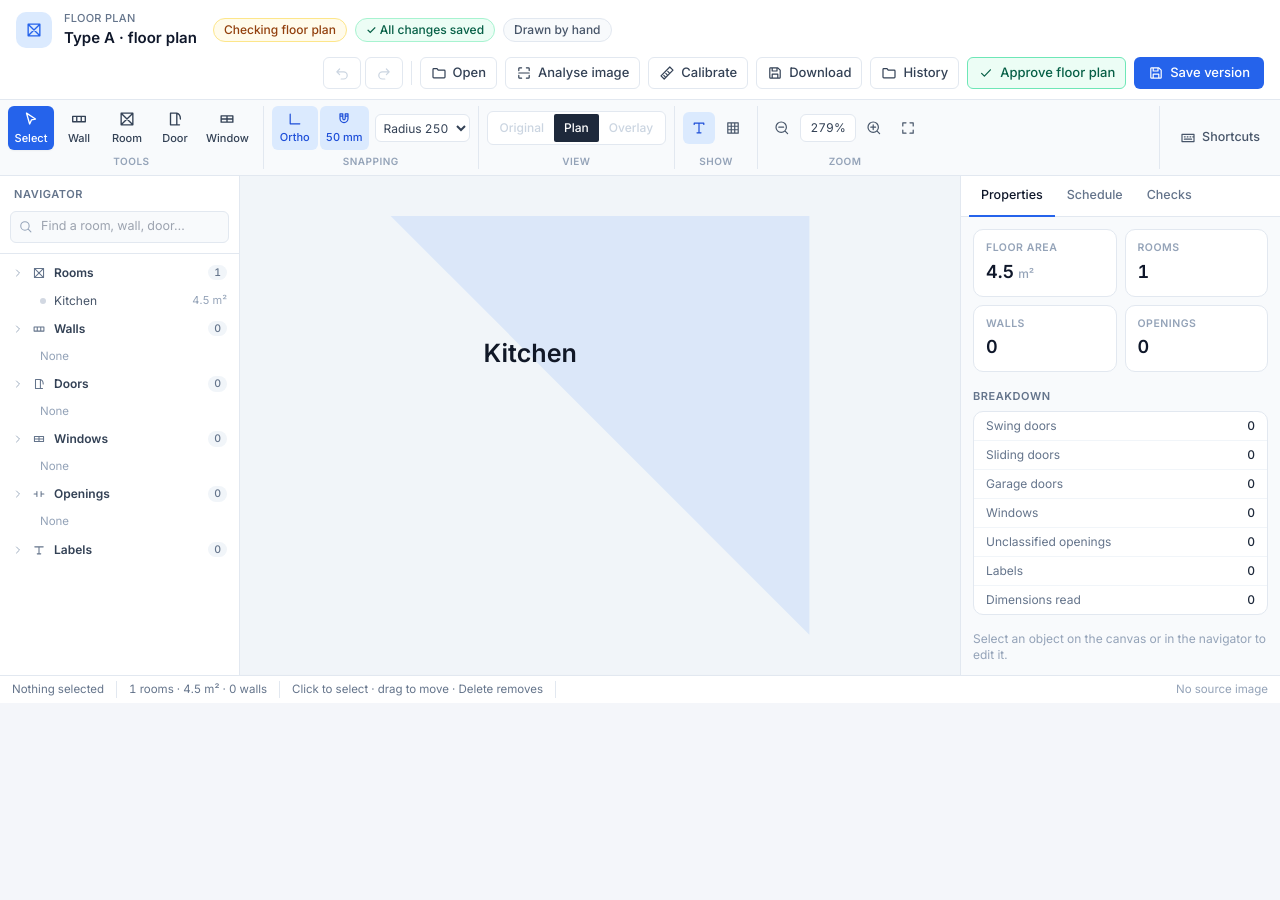
Test: HouseFloorPlanEditor › asks before restoring over a draft with unsaved changes, and keeps them when asked to
Click the button "History".
click(915, 73)  # box [870,57,959,89]
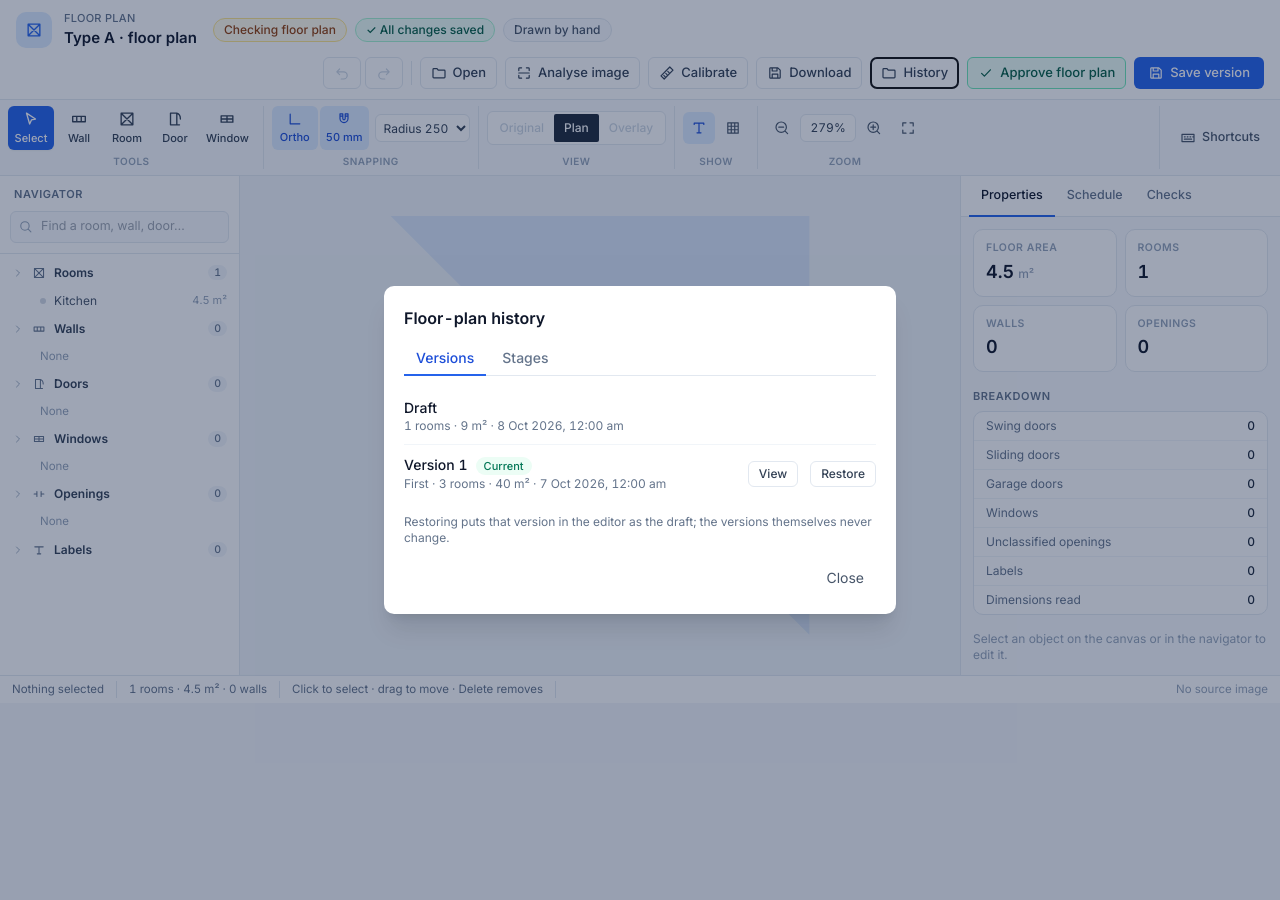
Expected: the text "Version 1" is shown, [404,456,468,473]
Expected: the text "Current" is shown, [476,457,532,475]
Expected: the number of buttons "Restore" is 1
Click the button "Restore".
click(843, 474)  # box [810,460,876,486]
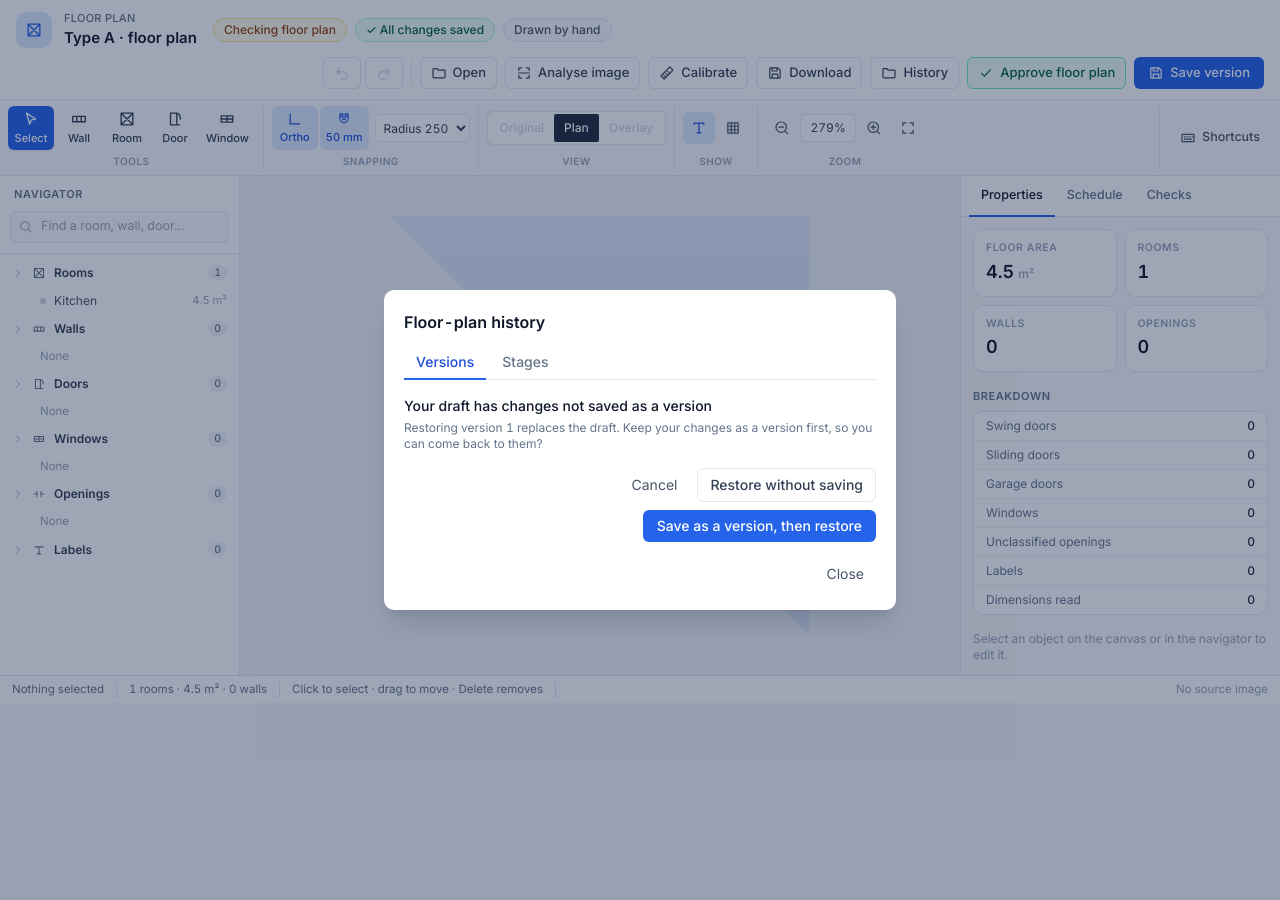
Expected: the text "Your draft has changes not saved as a version" is shown, [404,397,712,414]
Click the button "Save as a version, then restore".
click(759, 526)  # box [643,510,876,542]
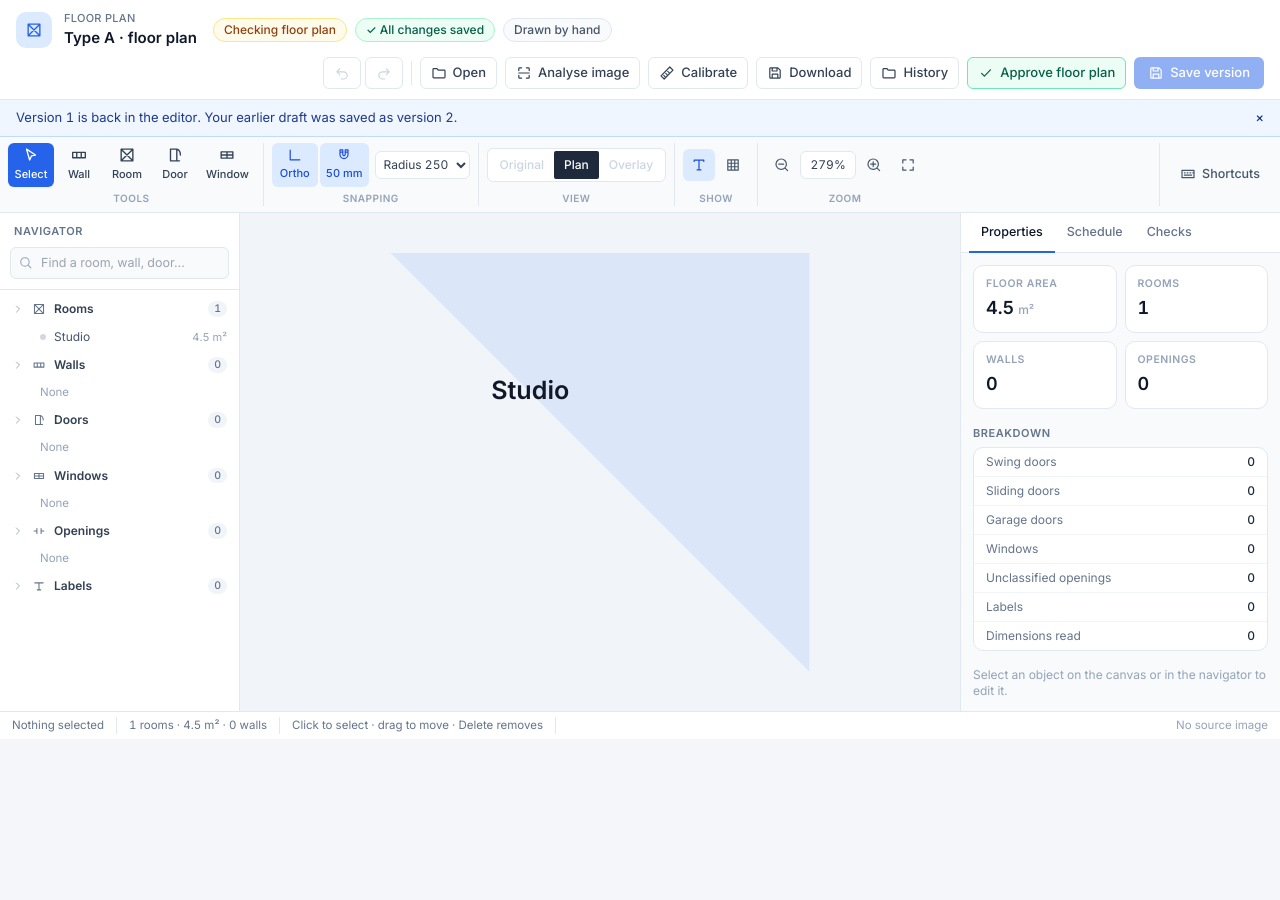
Expected: the text "Studio" is shown, [54,329,90,344]
Expected: the dialog is gone
Expected: the message shows "Your earlier draft was saved as version 2", [16,109,457,125]
